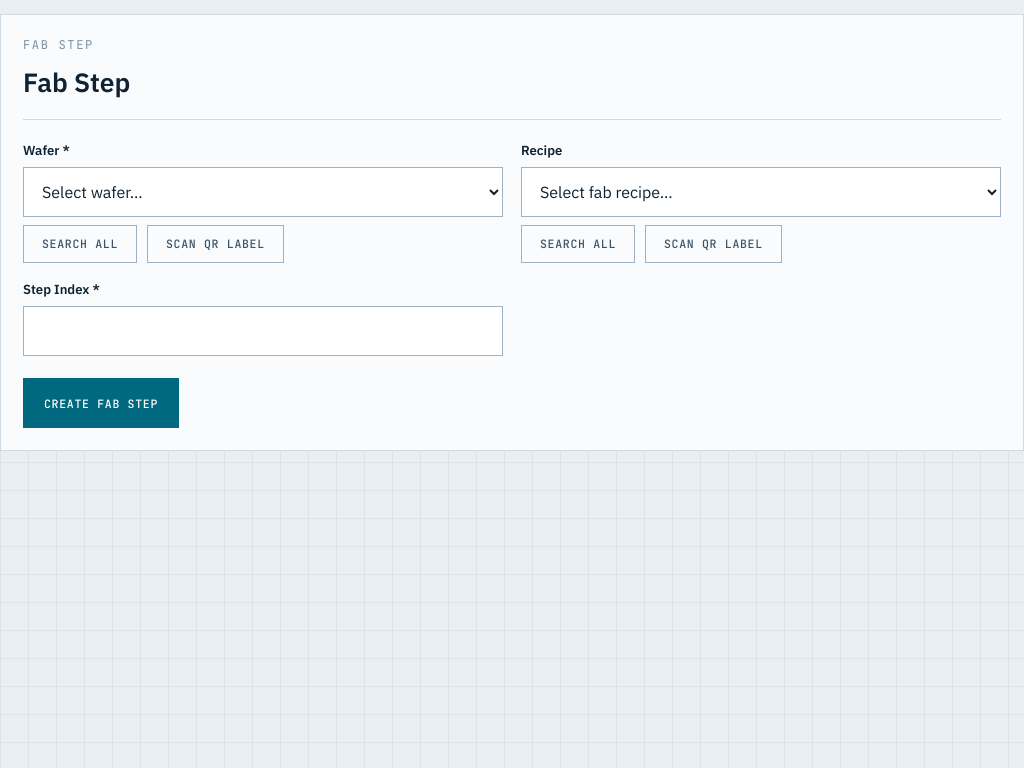
Step index suggestion › prefills highest existing step_index on the picked wafer plus one
The image size is (1024, 768).
Select "W-2026-0002" in the dropdown labelled "Wafer *": (263, 192) [23,167,503,217]
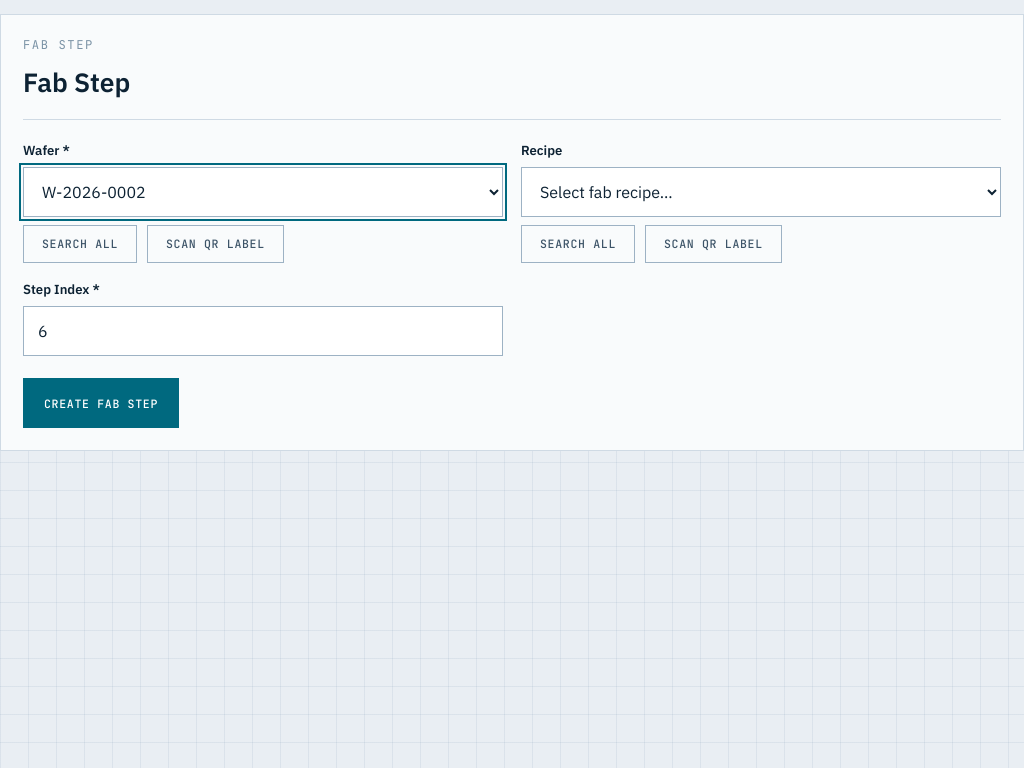
Expected: the number field labelled "Step Index *" holds "6", [23,306,503,356]
